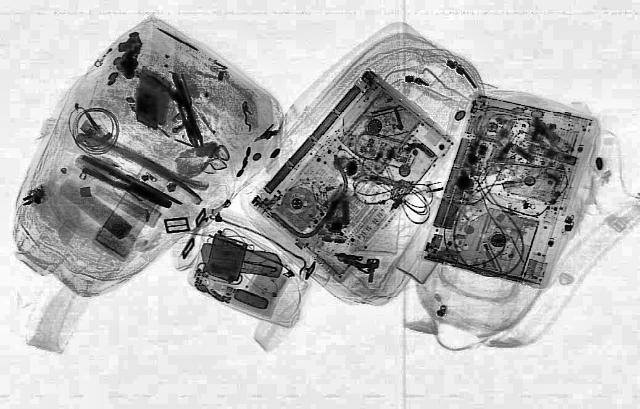Pliers: (68, 154, 180, 210)
